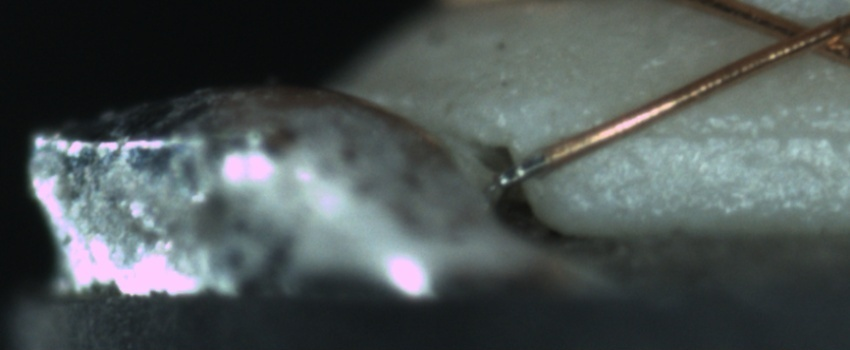CL: (755, 6, 847, 64)
DL: (613, 99, 847, 165)
TS: (496, 154, 546, 189)
